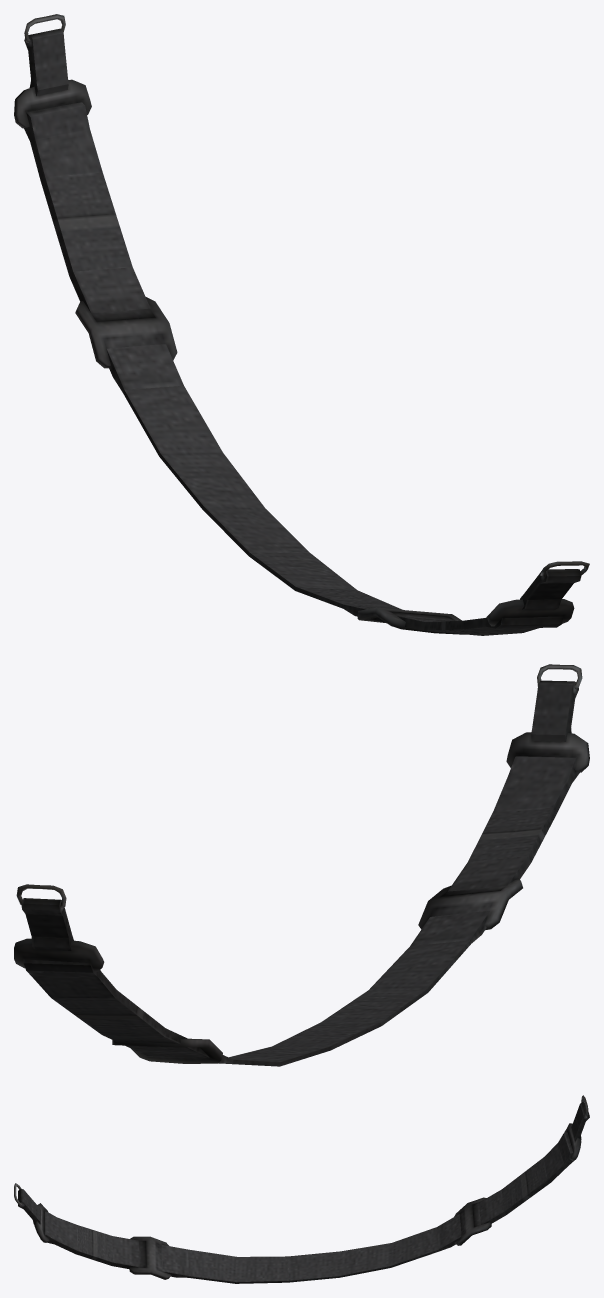
File: Rifle_Sling.fbx
The picture shows the model from 3 angles, top to bottom: view 1: azimuth 30°, elevation 25°; view 2: azimuth 150°, elevation 25°; view 3: azimuth 270°, elevation 25°; orthographic projection. The views are drawn at different scales.
Parts seen in each view (by area): view 1: Rifle_Sling; view 2: Rifle_Sling; view 3: Rifle_Sling.
Boxes of the visible parts, x1,y1,x2,y2 form: Rifle_Sling: [14, 14, 589, 635]; Rifle_Sling: [14, 664, 589, 1066]; Rifle_Sling: [14, 1095, 589, 1283].
Bounding box in the file's own units: 0.0497 × 0.4198 × 0.1504.
